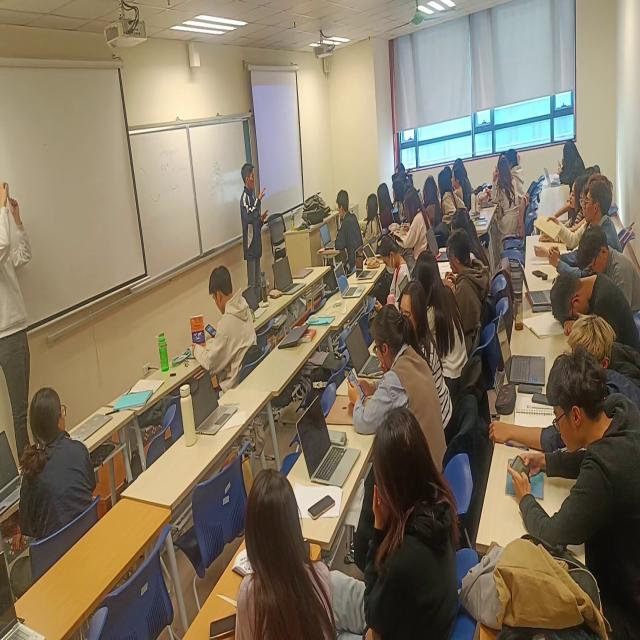raise_head: (351, 399, 460, 640), (228, 463, 338, 640), (14, 383, 97, 545), (578, 168, 621, 247), (557, 180, 590, 251), (438, 169, 459, 223), (363, 191, 382, 244), (565, 176, 583, 226), (393, 177, 405, 212), (452, 167, 465, 198)
read: (507, 146, 527, 202)
sleep: (546, 266, 640, 344)
stand: (1, 159, 38, 458), (239, 164, 271, 290)
using_computer: (506, 348, 640, 585), (415, 248, 471, 383), (445, 227, 488, 353), (322, 186, 365, 273), (392, 183, 431, 259), (453, 205, 490, 265)
using_phone: (344, 302, 449, 456), (195, 264, 260, 378), (570, 224, 640, 304), (373, 229, 410, 312), (557, 137, 587, 184)
